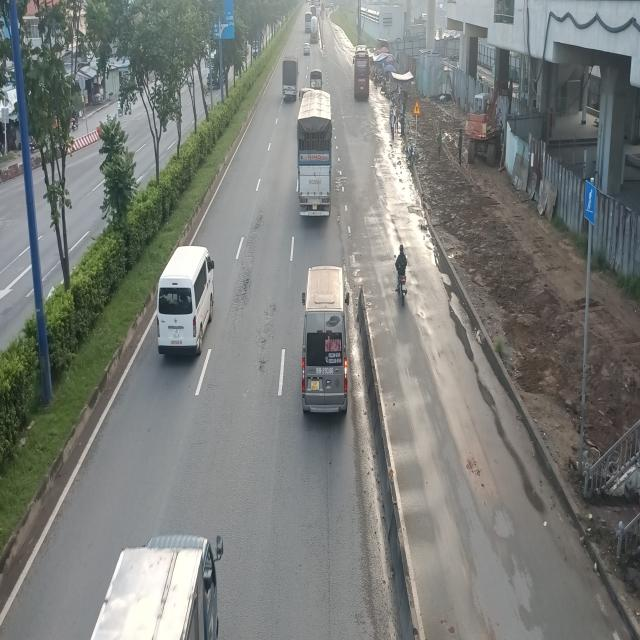coach: (354, 47, 371, 100)
truck: (295, 89, 332, 221), (281, 58, 299, 103)
van: (302, 266, 352, 419), (155, 244, 215, 356)
